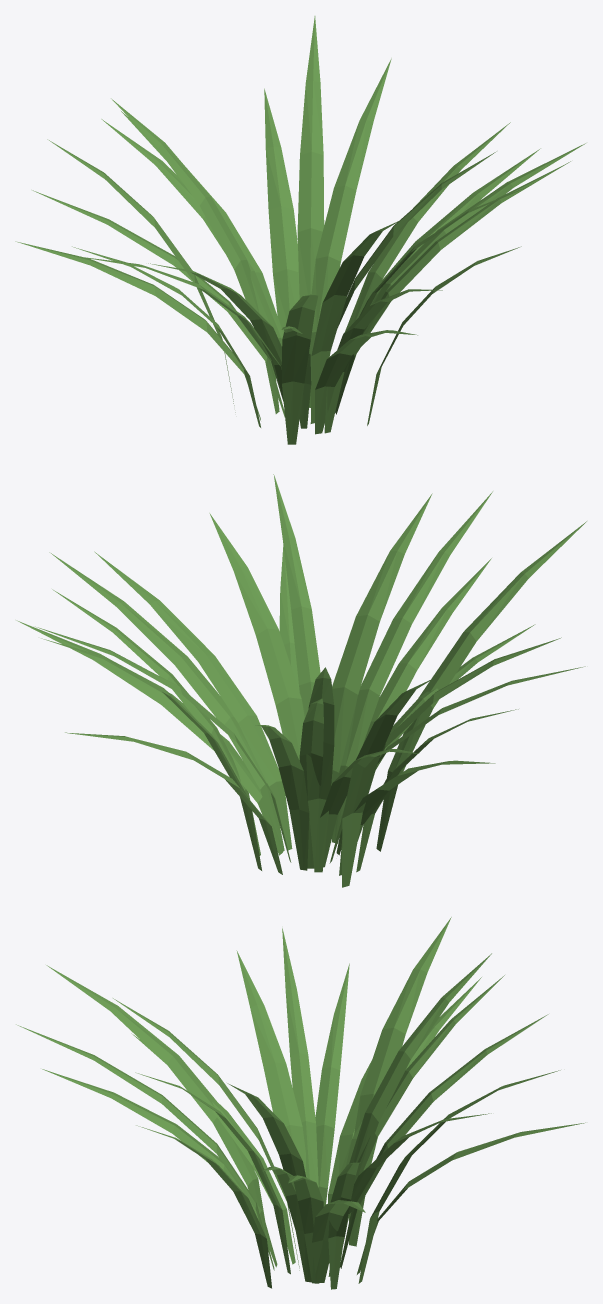
Rendered from grass_tuft_d.glb.
3 views of the same model, one above another, from view 1: azimuth 30°, elevation 25°; view 2: azimuth 150°, elevation 25°; view 3: azimuth 270°, elevation 25° (orthographic). The views are drawn at different scales.
Parts seen in each view (by area): view 1: grass_tuft_d; view 2: grass_tuft_d; view 3: grass_tuft_d.
Boxes of the visible parts, bbox=[...] form: grass_tuft_d: bbox=[15, 16, 585, 444]; grass_tuft_d: bbox=[16, 474, 586, 887]; grass_tuft_d: bbox=[16, 917, 585, 1289].
Size of the model in its own units: 0.4868 by 0.25 by 0.4851.
